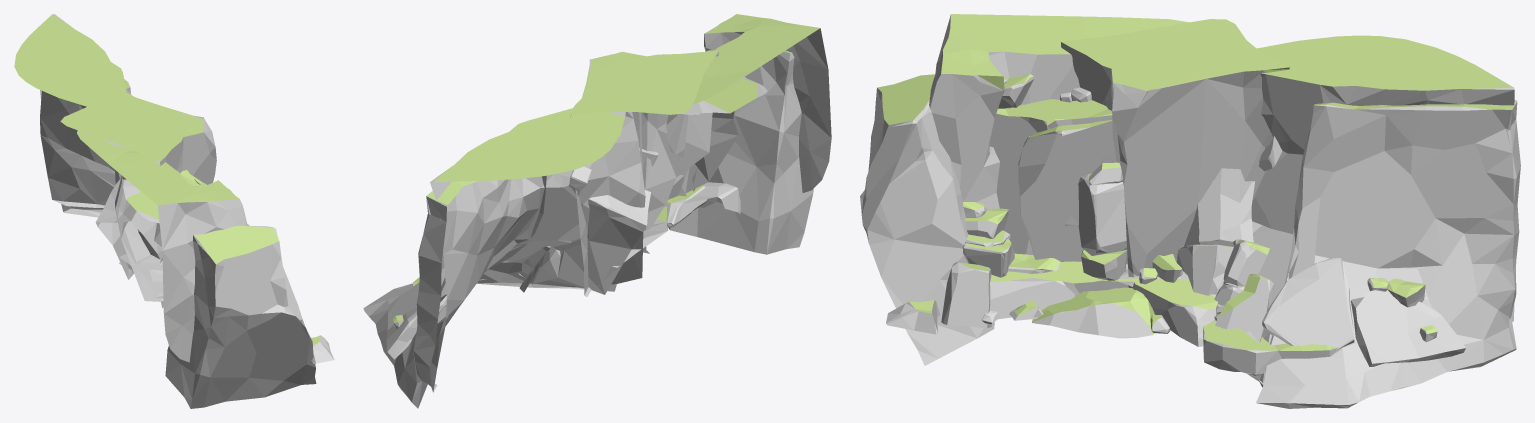
File: rock2.fbx
3 views of the same model, side by side, from view 1: azimuth 30°, elevation 25°; view 2: azimuth 150°, elevation 25°; view 3: azimuth 270°, elevation 25° (orthographic). The views are drawn at different scales.
Parts seen in each view (by area): view 1: 立方体.052; view 2: 立方体.052; view 3: 立方体.052.
Boxes of the visible parts, x1,y1,x2,y2 form: 立方体.052: (14,14,334,408); 立方体.052: (363,14,831,408); 立方体.052: (860,14,1520,408).
Bounding box in the file's own units: 1026 × 831 × 1891.
